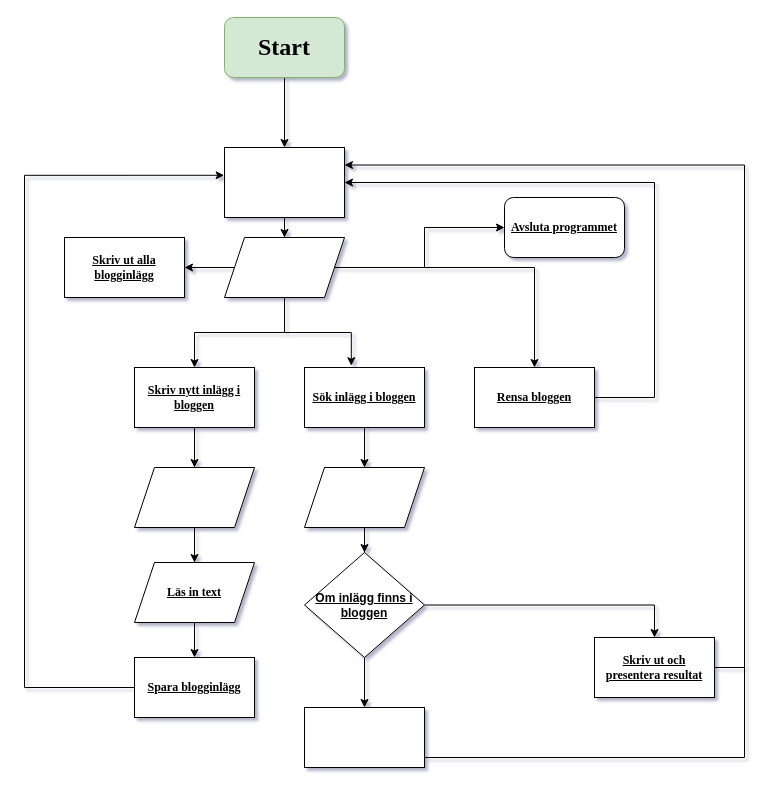
The diagram is 776 pixels wide and 791 high, and some of its shapes have lost their labels. The centre of each missing label's shape, as x and y in pixels:
Fel meddela, fel inmatning: point (364, 737)
Läs in menyval: point (284, 267)
Läs in sökning: point (364, 497)
Läs in titel: point (194, 497)
Skriv ut meny: point (284, 182)
